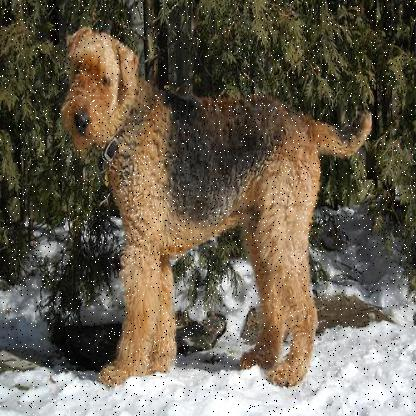dog: (59, 10, 371, 390)
